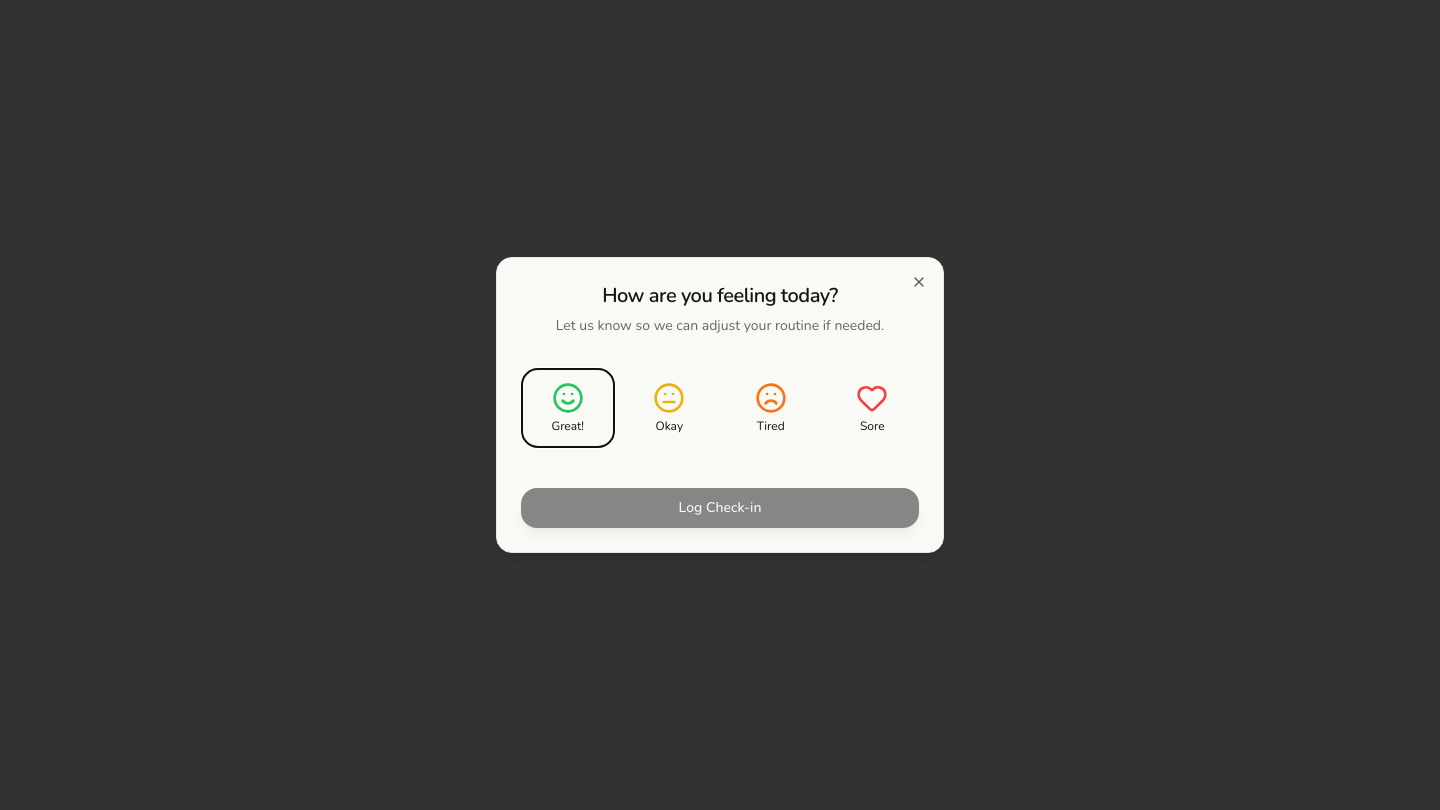
Test: CheckInModal › sentiment selection › shows notes field for sore sentiment
Expected: the dialog is shown, [496,257,944,553]
Click the button "Sore": {"x": 872, "y": 408} [826,368,919,448]
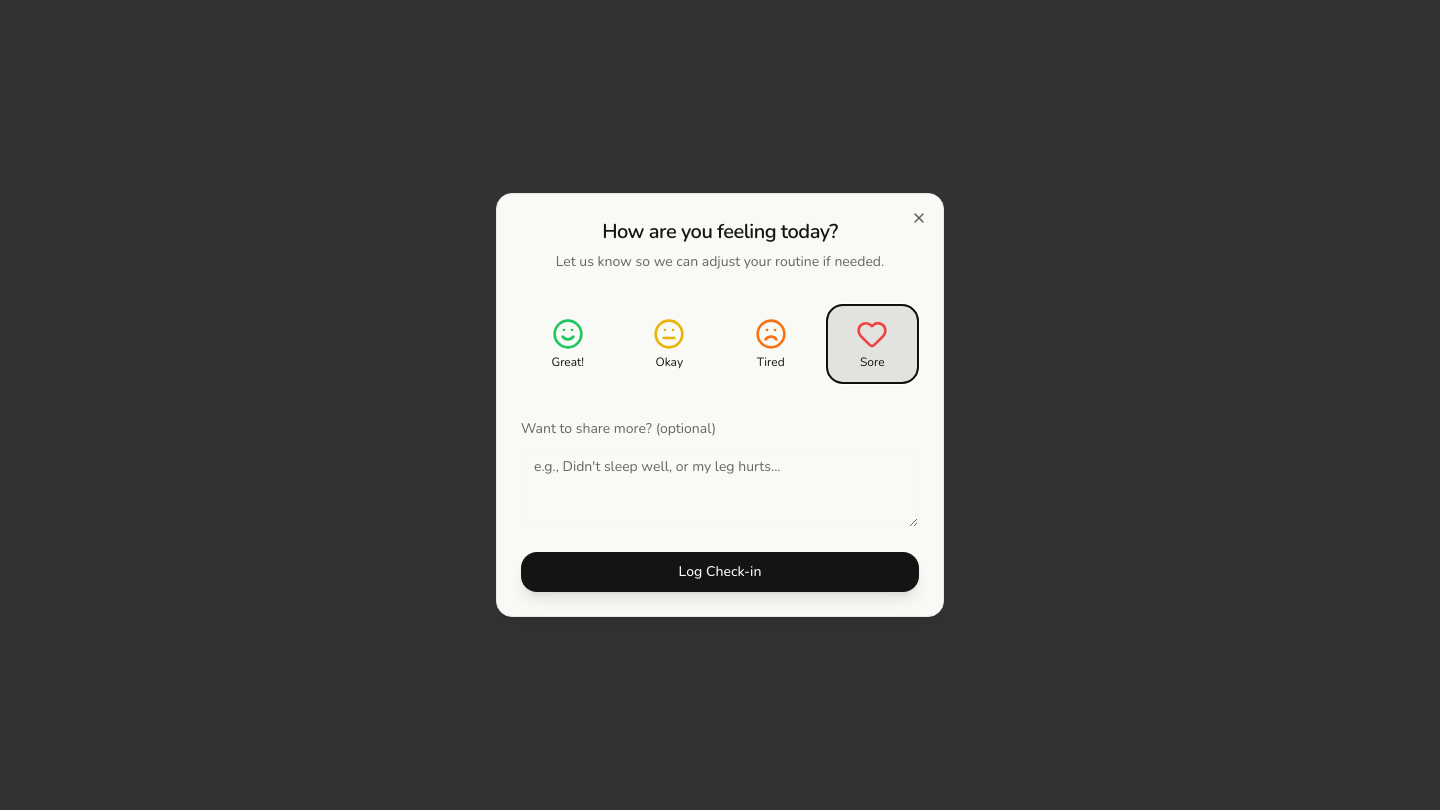
Now the text box is shown, box [521,448,919,528]
